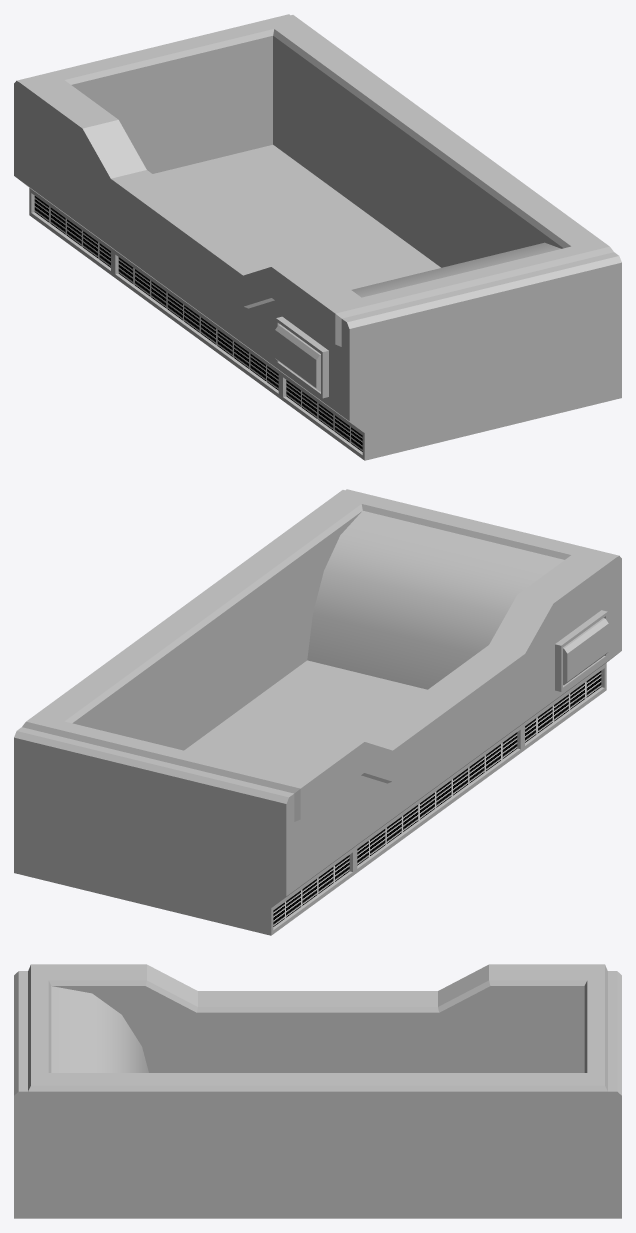
File: Bath_01.FBX
3 views of the same model, one above another, from view 1: azimuth 30°, elevation 25°; view 2: azimuth 150°, elevation 25°; view 3: azimuth 270°, elevation 25° (orthographic). The views are drawn at different scales.
Parts seen in each view (by area): view 1: Bath_01_LOD0; view 2: Bath_01_LOD0; view 3: Bath_01_LOD0.
Part boxes in pixels (x1=…): Bath_01_LOD0: x1=14, y1=14, x2=621, y2=460; Bath_01_LOD0: x1=14, y1=489, x2=621, y2=935; Bath_01_LOD0: x1=14, y1=964, x2=621, y2=1218.
Size of what is drawn, in the model's own units: 62.13 by 30.53 by 128.
